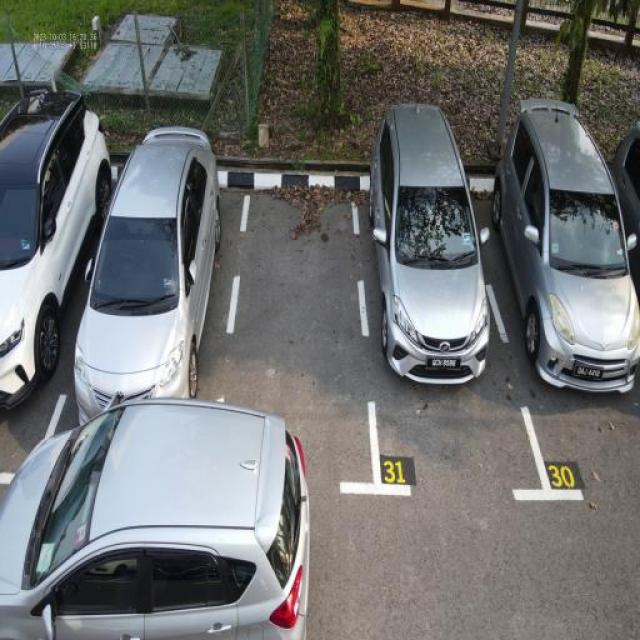Legalparking: (1, 54, 640, 428)
illegalparking: (0, 408, 347, 640)
